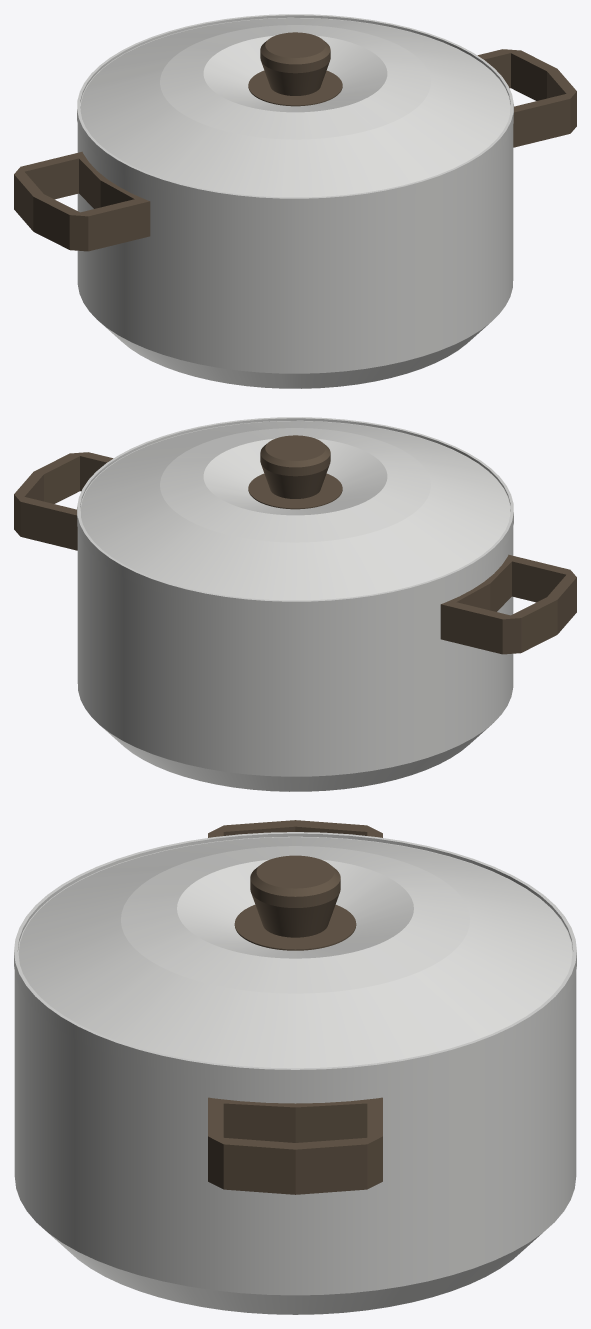
3 renders of one model, top to bottom at view 1: azimuth 30°, elevation 25°; view 2: azimuth 150°, elevation 25°; view 3: azimuth 270°, elevation 25°, orthographic. The views are drawn at different scales.
Visible parts, largest first — view 1: body, cover, handle.001, handle, knob; view 2: body, cover, handle.001, handle, knob; view 3: body, cover, handle, knob, handle.001.
Part boxes in pixels (x1,y1,x2,y2): body: [77, 17, 513, 388]; cover: [77, 14, 513, 209]; handle.001: [14, 151, 150, 251]; handle: [477, 49, 576, 147]; knob: [248, 32, 342, 106]; body: [77, 420, 513, 791]; cover: [77, 417, 513, 612]; handle.001: [440, 554, 576, 654]; handle: [14, 452, 113, 550]; knob: [248, 435, 342, 509]; body: [14, 836, 576, 1314]; cover: [14, 832, 576, 1083]; handle: [208, 1097, 382, 1194]; knob: [234, 855, 356, 950]; handle.001: [208, 820, 382, 837].
Bounding box in the file's own units: 0.25 × 0.1198 × 0.1805.
